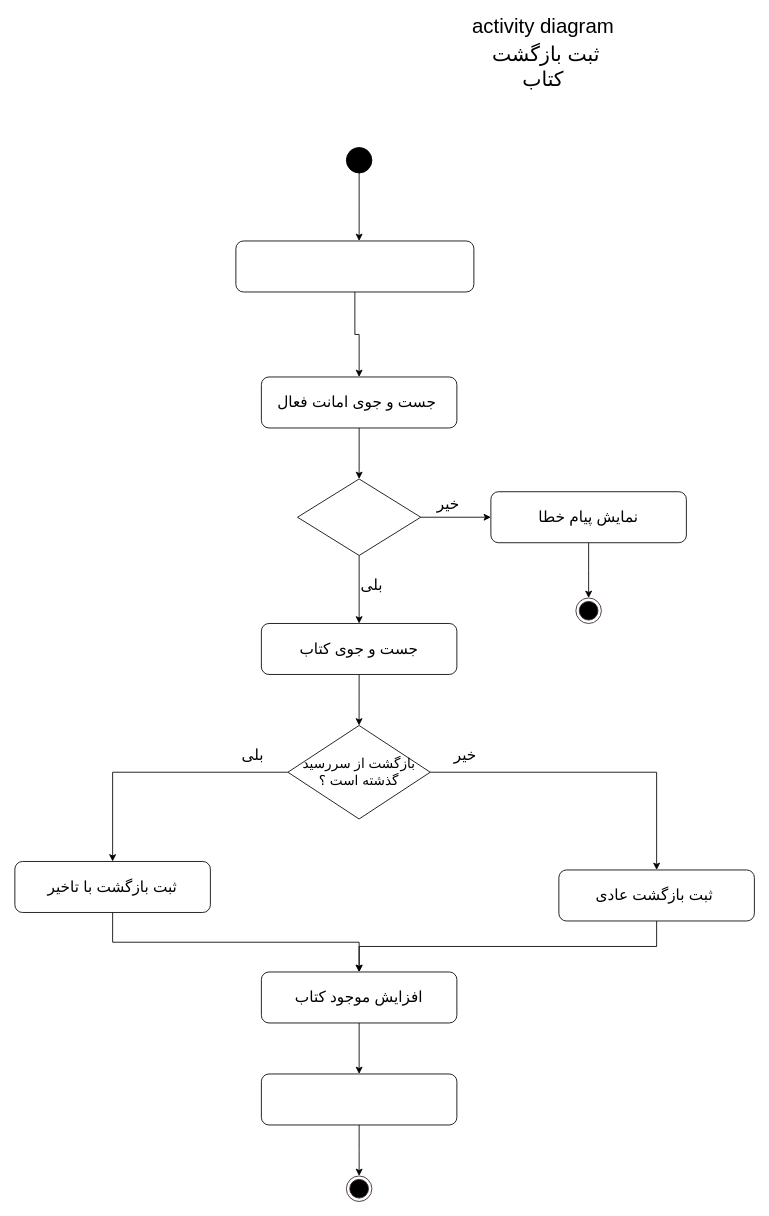
This 769x1216 diagram has some shape labels left out. The shapes that lost their labels are listed below. From the top down, each one's centre as x and y in pixels, then its label:
At point 354,266: "کتابدار شماره عضویت و کتاب را وارد میکند".
At point 359,516: "امانت فعال یافت شد ؟".
At point 359,1099: "نمایش تایید ثبت بازگشت".
